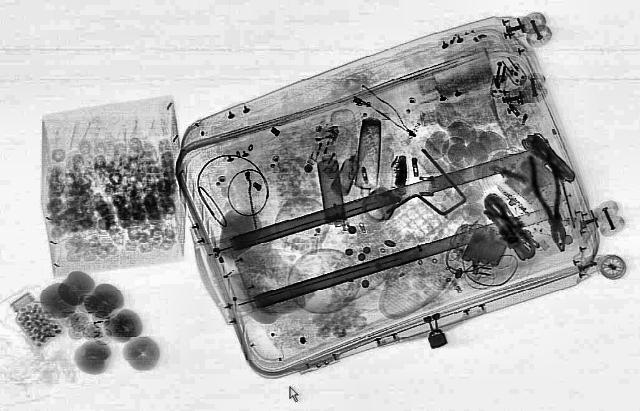Pliers: (520, 152, 580, 252)
